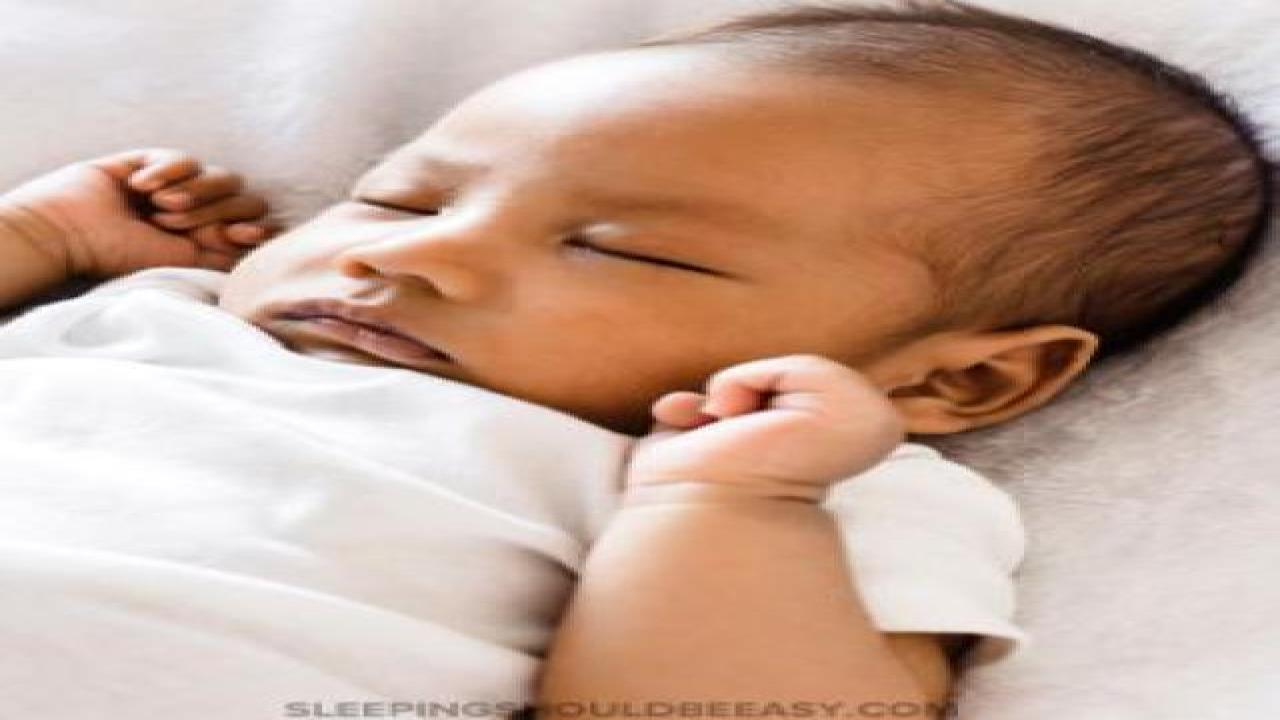hand: (622, 350, 913, 495), (44, 145, 269, 271)
